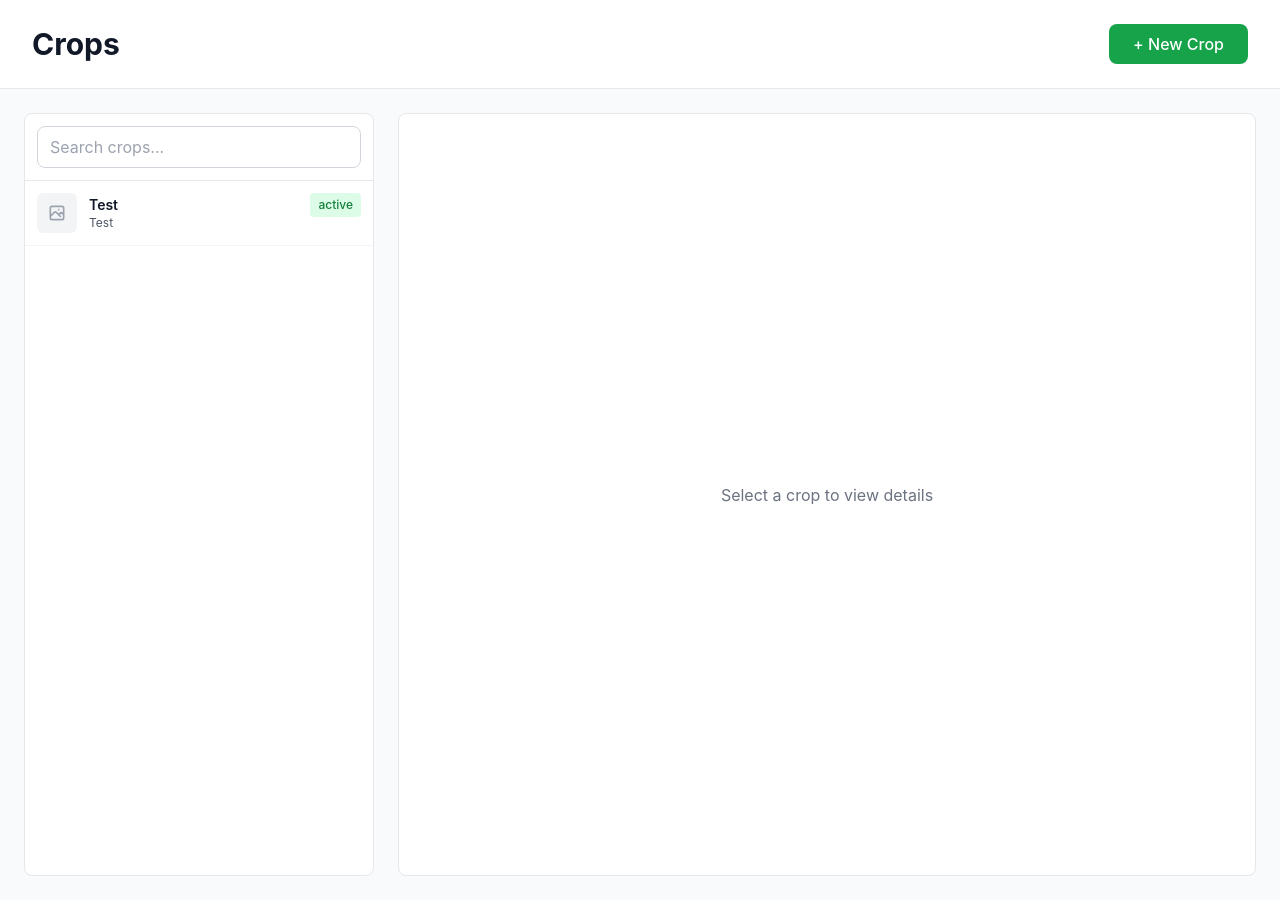
Test: AdminCropsPage › Error Handling › should validate stack days when stack is enabled
The image size is (1280, 900).
Click the 1st text "Test": (104, 205) [89, 195, 118, 215]
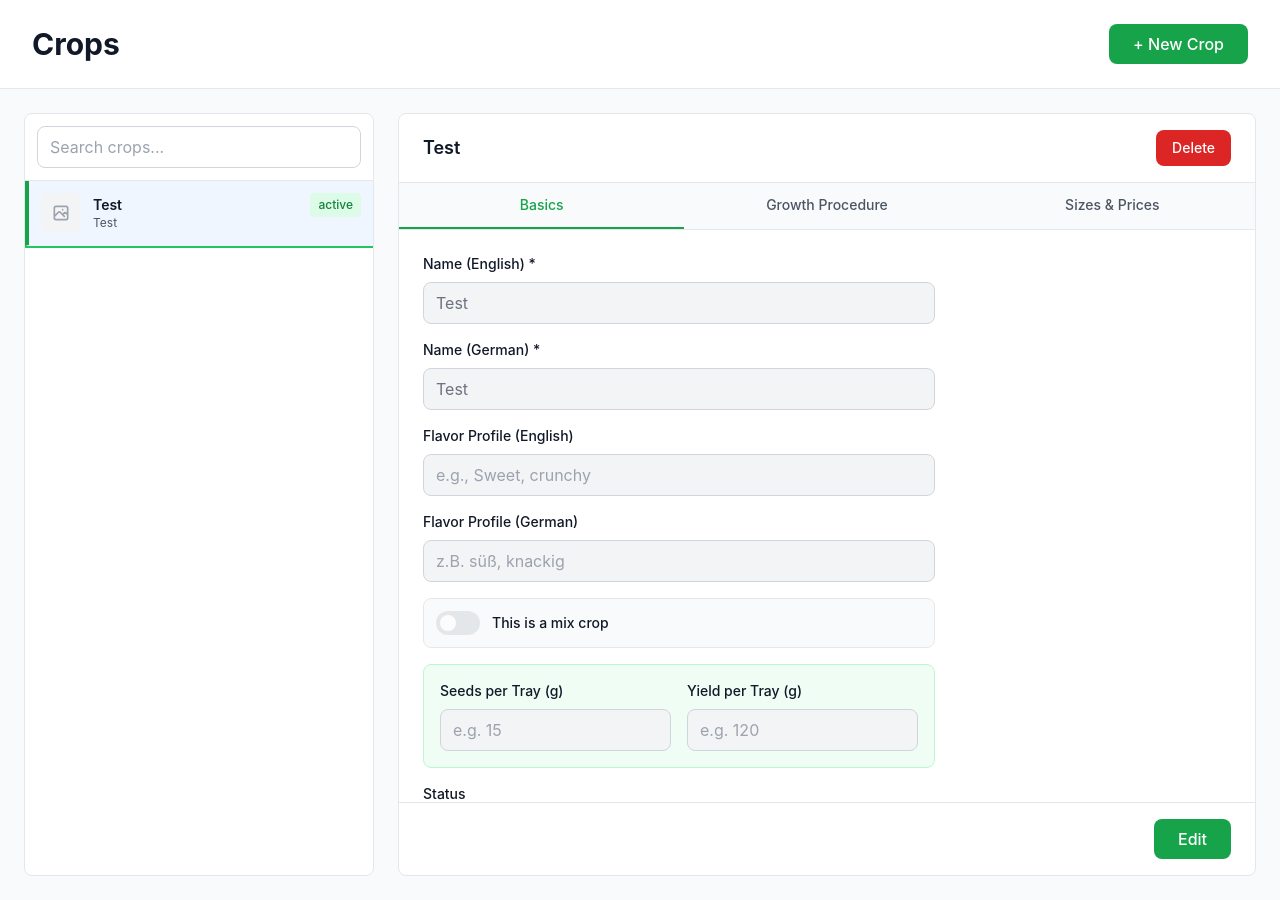
Click the button "Edit": (1192, 839) [1154, 819, 1231, 859]
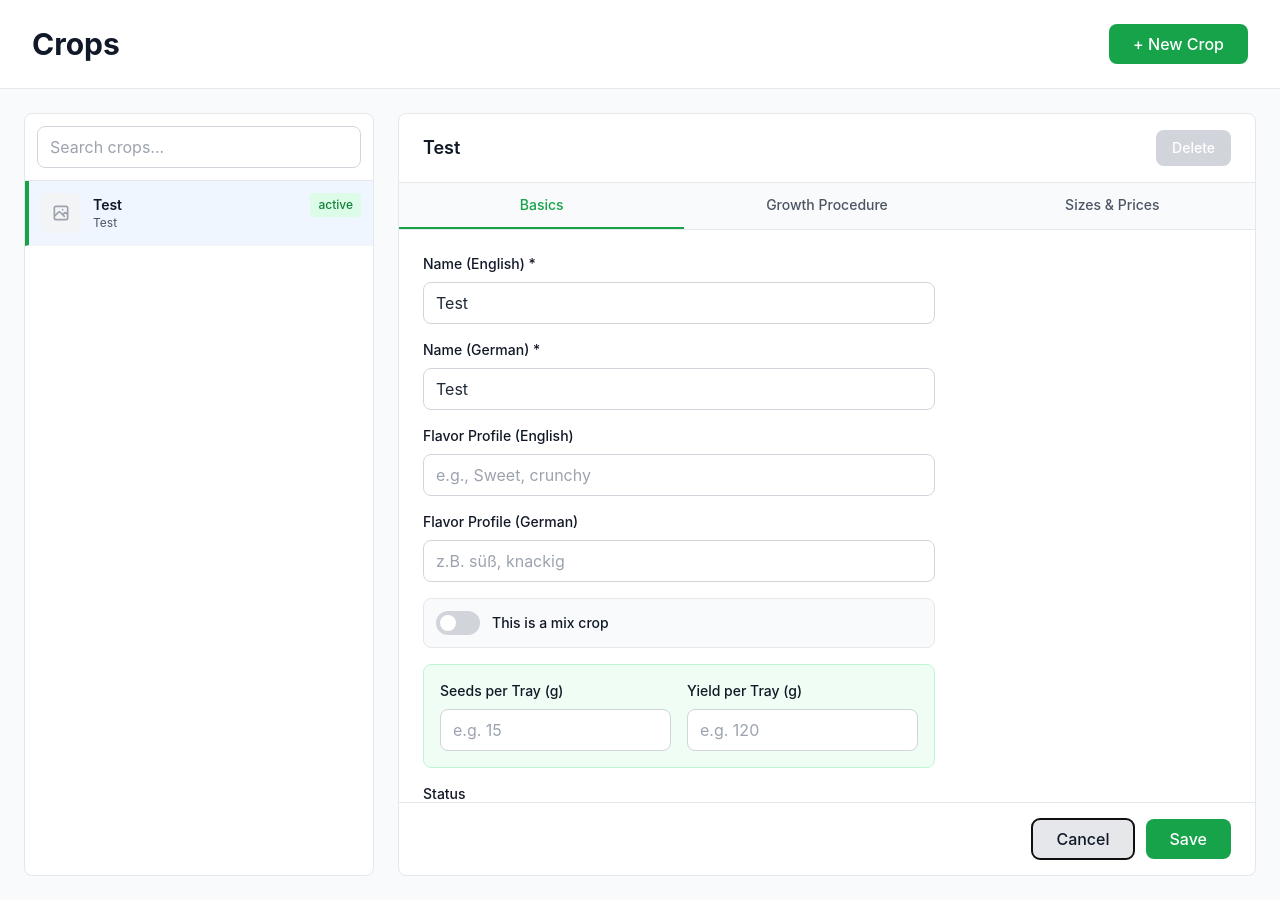
Click the button "Save": (1188, 839) [1146, 819, 1231, 859]
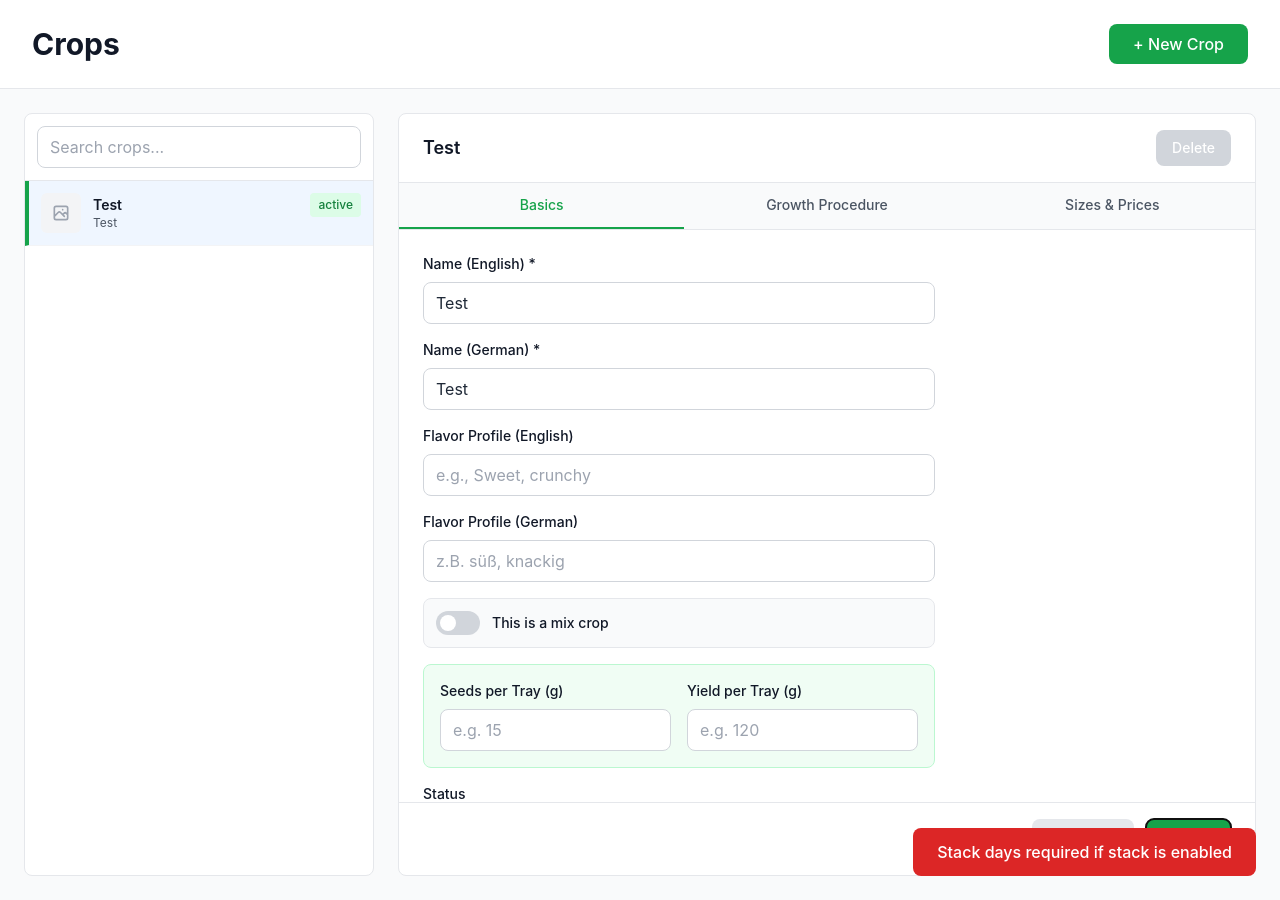
Check: the text "Stack days required if stack is enabled" is shown, box [913, 828, 1256, 876]
